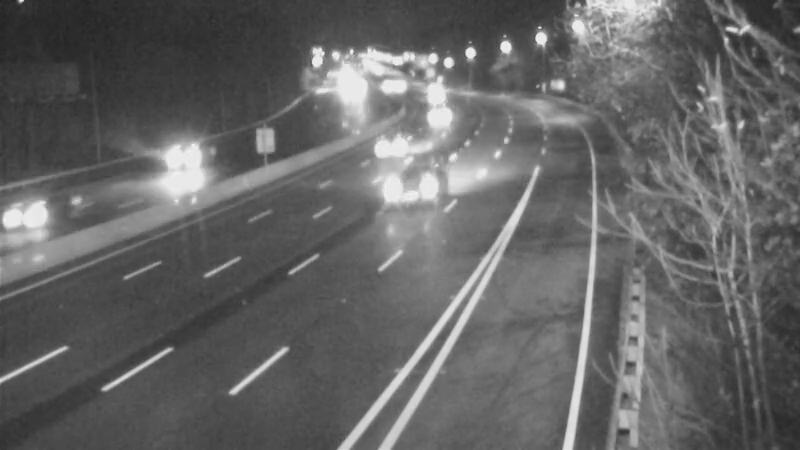vehicle: (368, 146, 448, 226), (142, 117, 222, 197), (1, 176, 79, 256), (376, 60, 426, 110), (416, 75, 466, 125), (415, 91, 465, 141), (360, 121, 410, 171)
